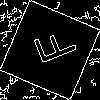F: (25, 25, 78, 70)
